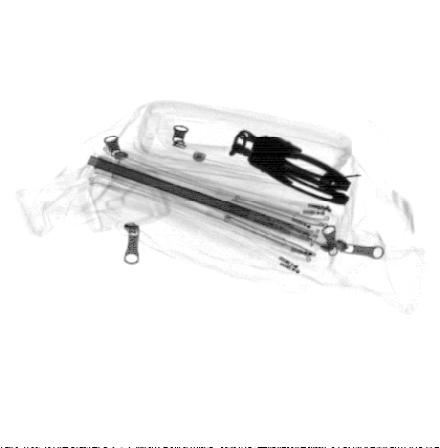HandCuffs: (225, 128, 355, 207)
